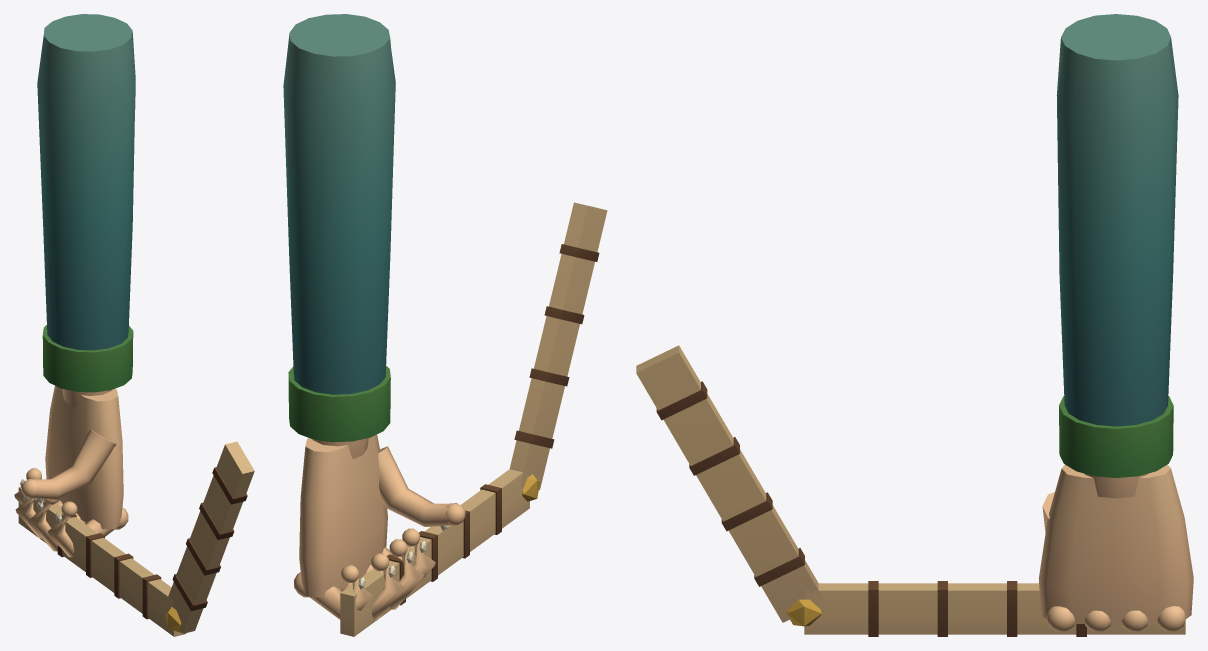
File: merchant_esme_fore_l.glb
3 renders of one model, left to right at view 1: azimuth 30°, elevation 25°; view 2: azimuth 150°, elevation 25°; view 3: azimuth 270°, elevation 25°, orthographic. The views are drawn at different scales.
Parts seen in each view (by area): view 1: merchant_esme_fore_l; view 2: merchant_esme_fore_l; view 3: merchant_esme_fore_l.
Part boxes in pixels (x1,y1,x2,y2): merchant_esme_fore_l: (14, 14, 254, 636); merchant_esme_fore_l: (283, 14, 607, 636); merchant_esme_fore_l: (636, 14, 1193, 636).
Size of the model in its own units: 0.3697 by 1.35 by 1.1.
1 material, 1 textured.
